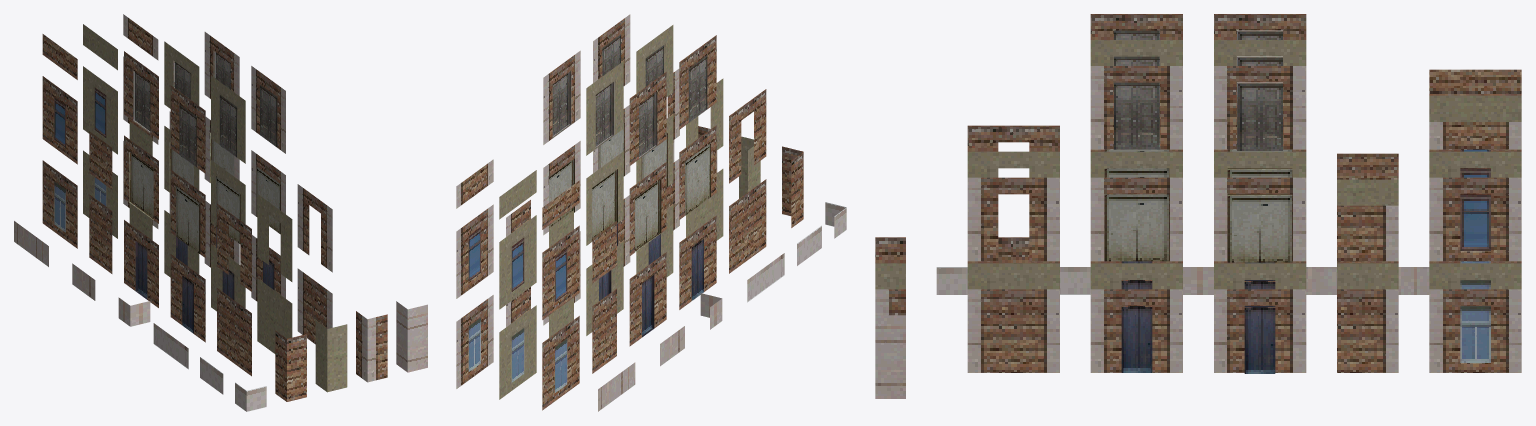
Rendered from env_urban_building_parts.glb.
3 renders of one model, left to right at view 1: azimuth 30°, elevation 25°; view 2: azimuth 150°, elevation 25°; view 3: azimuth 270°, elevation 25°, orthographic. The views are drawn at different scales.
Parts seen in each view (by area): view 1: brick_wall_metal_door, brick_wall_old_door, brick_wall_window_1, brick_wall_door, brick_wall_window_2, brick_wall, brick_wall_metal_door_indent, brick_wall_door_indent, brick_wall_old_door_indent, stuco_wall_metal_door, fancy_brick_wall_metal_door, stuco_wall_window_2 (+33 smaller); view 2: brick_wall_metal_door, brick_wall, brick_wall_door_indent, brick_wall_old_door, brick_wall_old_door_indent, brick_wall_window_2, fancy_brick_wall_window_2, stuco_wall_metal_door_indent, stuco_wall_window_1, brick_wall_door, brick_wall_window_1, fancy_brick_wall_metal_door_indent (+34 smaller); view 3: fancy_brick_wall_old_door_indent, fancy_brick_wall_window_2, fancy_brick_wall_old_door, fancy_brick_wall_metal_door_indent, fancy_brick_wall_door_indent, fancy_brick_wall, fancy_brick_wall_door, fancy_brick_wall_metal_door, fancy_brick_wall_window_1, fancy_brick_wall_door_frame, fancy_brick_wall_thin, fancy_brick_wall_small (+29 smaller).
Part boxes in pixels (x1,y1,x2,y2): brick_wall_metal_door: (170,85,205,173); brick_wall_old_door: (170,170,205,257); brick_wall_window_1: (42,160,77,248); brick_wall_door: (170,254,205,342); brick_wall_window_2: (42,76,77,164); brick_wall: (217,288,251,376); brick_wall_metal_door_indent: (124,51,158,139); brick_wall_door_indent: (124,220,158,307); brick_wall_old_door_indent: (124,135,158,223); stuco_wall_metal_door: (211,75,245,163); fancy_brick_wall_metal_door: (251,66,285,153); stuco_wall_window_2: (83,66,117,154); brick_wall_metal_door: (679,35,716,129); brick_wall: (729,179,766,273); brick_wall_door_indent: (629,252,666,346); brick_wall_old_door: (679,125,716,219); brick_wall_old_door_indent: (629,162,666,255); brick_wall_window_2: (542,225,579,319); fancy_brick_wall_window_2: (456,204,493,298); stuco_wall_metal_door_indent: (586,61,623,155); stuco_wall_window_1: (499,305,536,399); brick_wall_door: (679,215,716,309); brick_wall_window_1: (542,316,579,410); fancy_brick_wall_metal_door_indent: (543,50,580,144); fancy_brick_wall_old_door_indent: (1214,177,1306,262); fancy_brick_wall_window_2: (1429,177,1521,261); fancy_brick_wall_old_door: (1090,177,1182,261); fancy_brick_wall_metal_door_indent: (1214,66,1306,150); fancy_brick_wall_door_indent: (1214,289,1306,373); fancy_brick_wall: (967,289,1059,372); fancy_brick_wall_door: (1090,289,1182,372); fancy_brick_wall_metal_door: (1090,66,1182,149); fancy_brick_wall_window_1: (1429,289,1521,372); fancy_brick_wall_door_frame: (967,177,1059,261); fancy_brick_wall_thin: (1337,289,1398,372); fancy_brick_wall_small: (1337,205,1398,261).
Size of the model in its own units: 9 by 11 by 21.
1 material, 1 textured.
